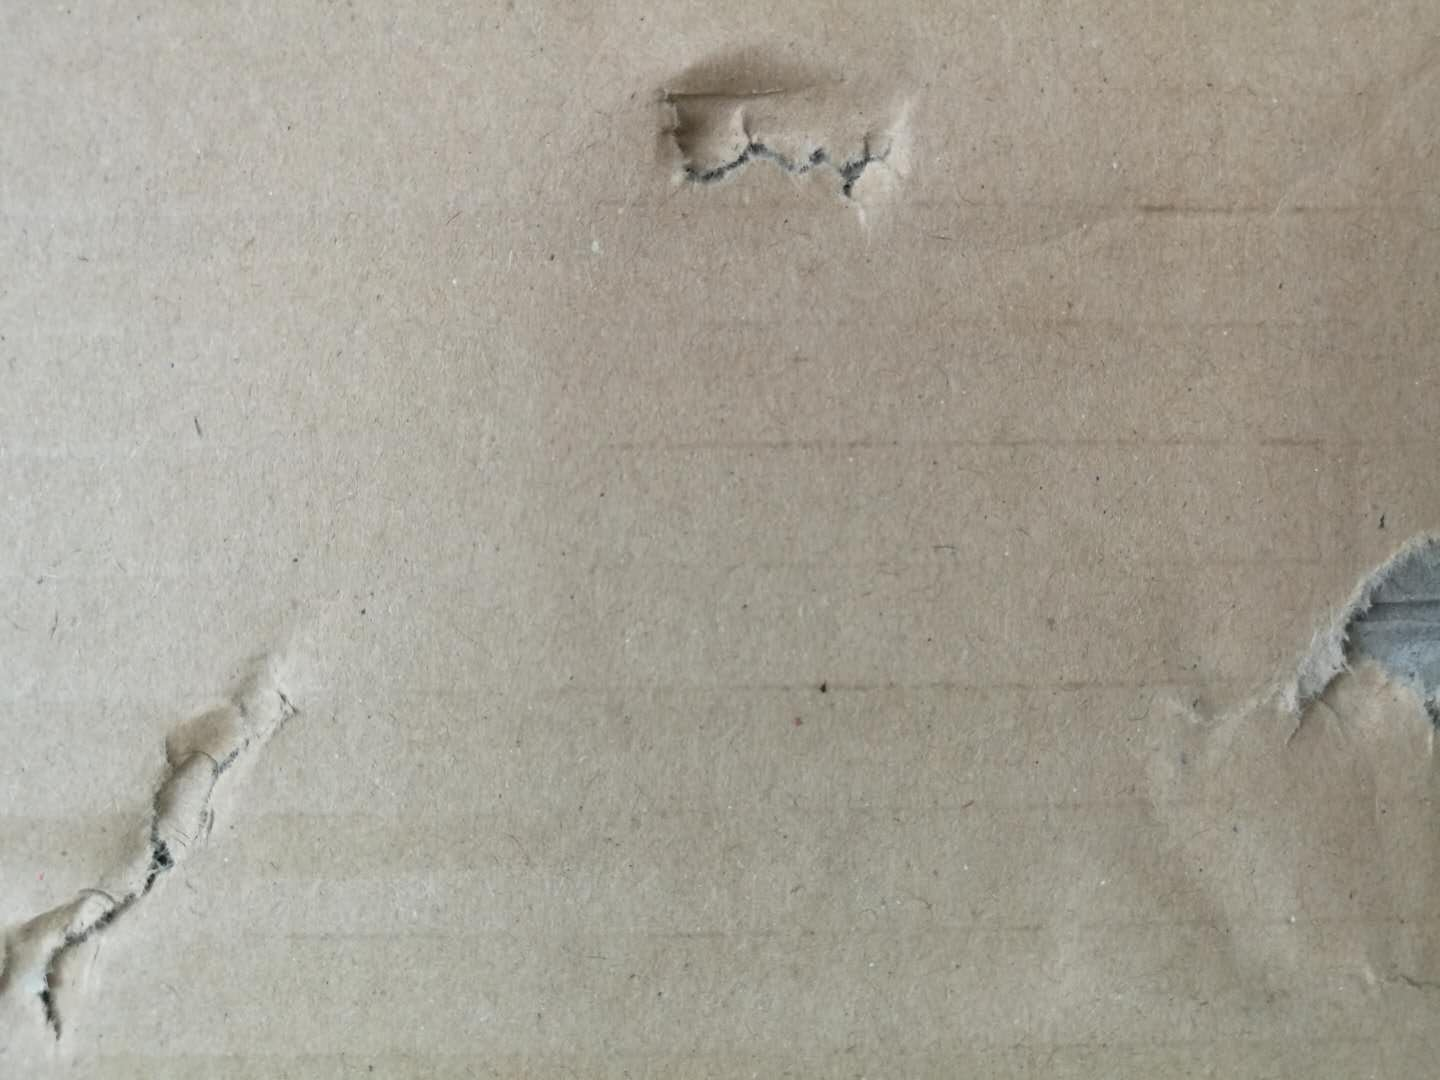defect: (1136, 498, 1440, 1033), (2, 625, 321, 1062), (613, 20, 943, 269)
